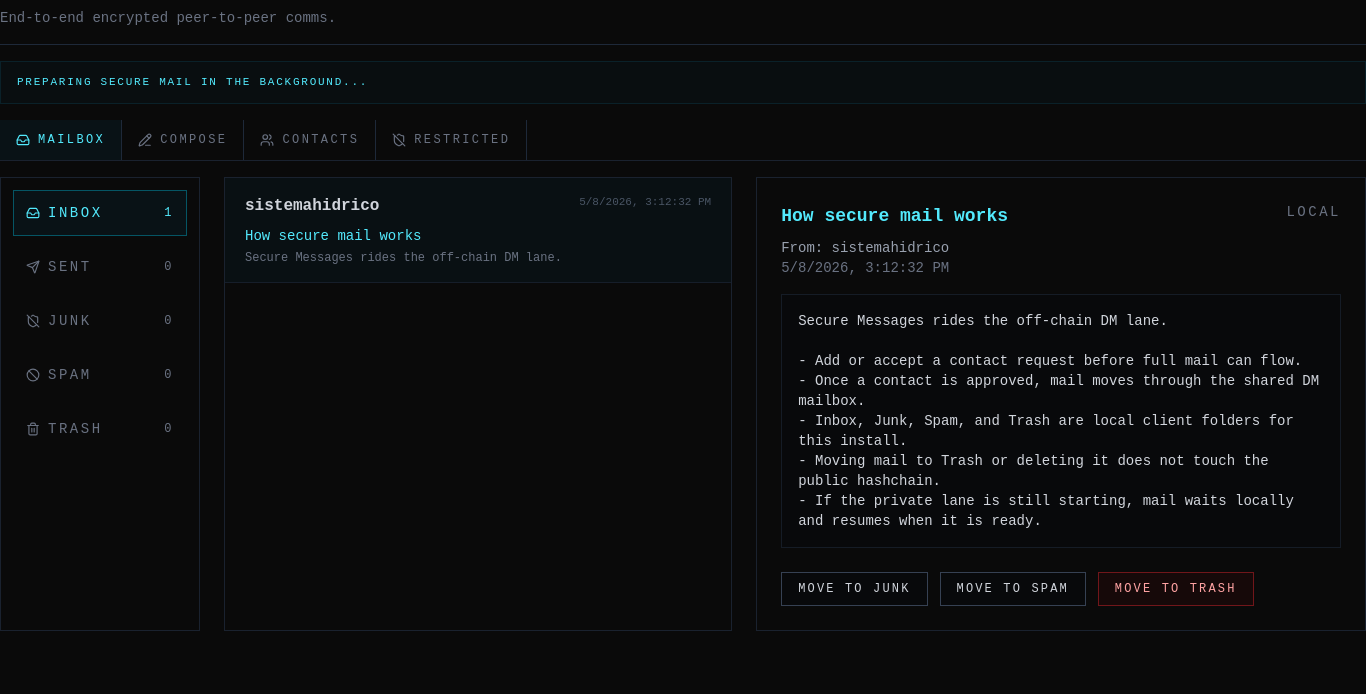
Scenario: MessagesView first-contact trust UX › does not require the TOFU override when the contact is invite-pinned already
Click the button "COMPOSE" at (183, 140), box [122,120,244,160]
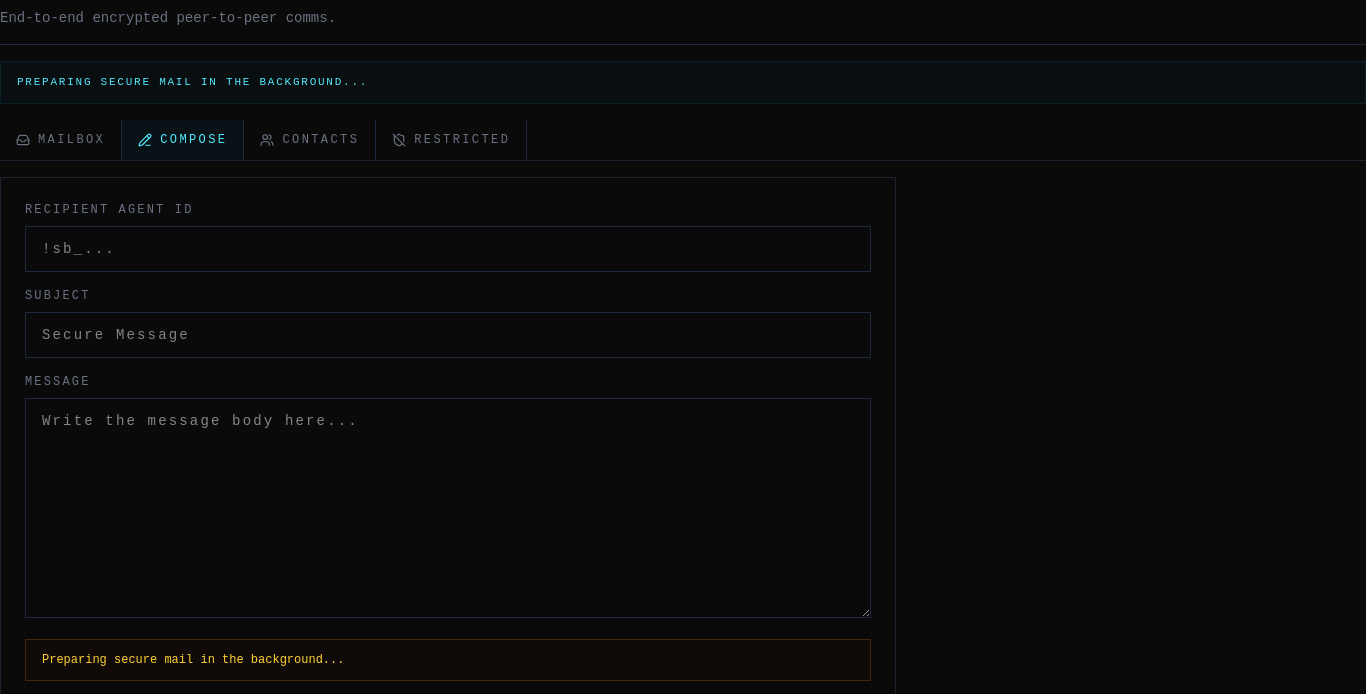
Type "!sb_invited" into the field labelled "Recipient agent ID" at (448, 248), box [25,226,871,272]
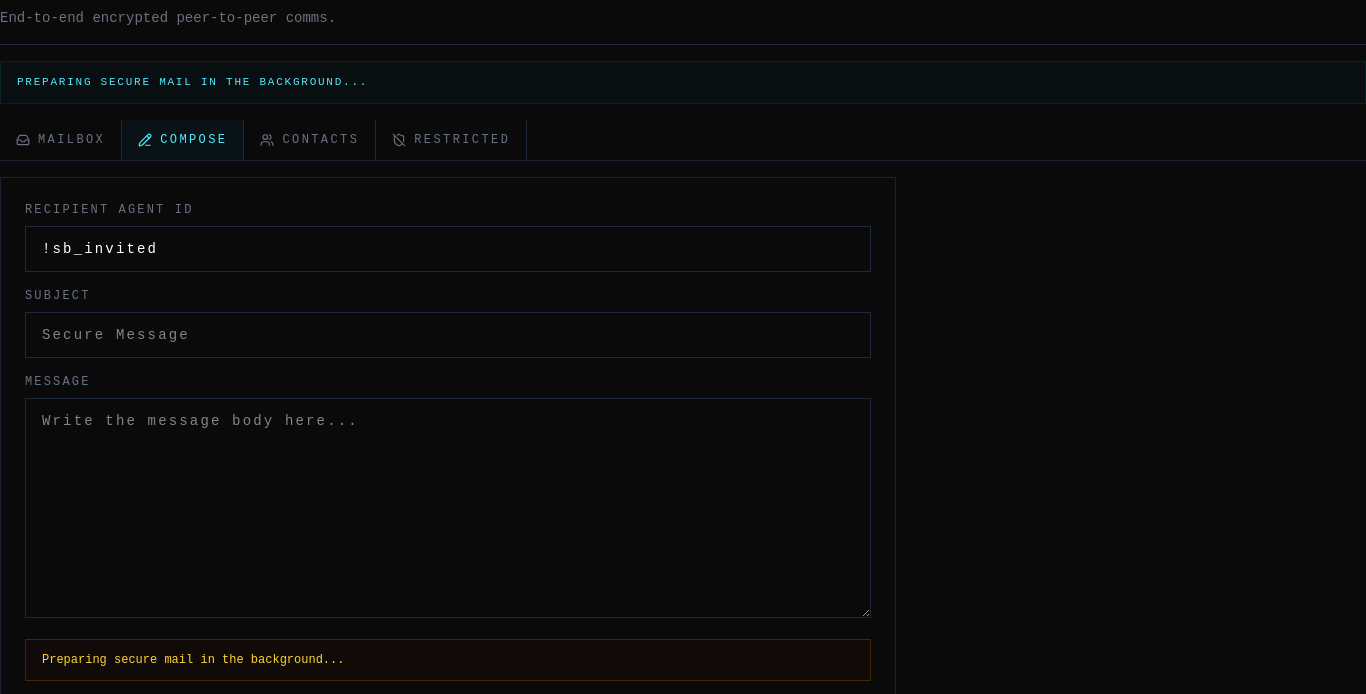
Type "hello to pinned peer" into the text box labelled "Message" at (448, 508), box [25,398,871,618]
(page scrolled)
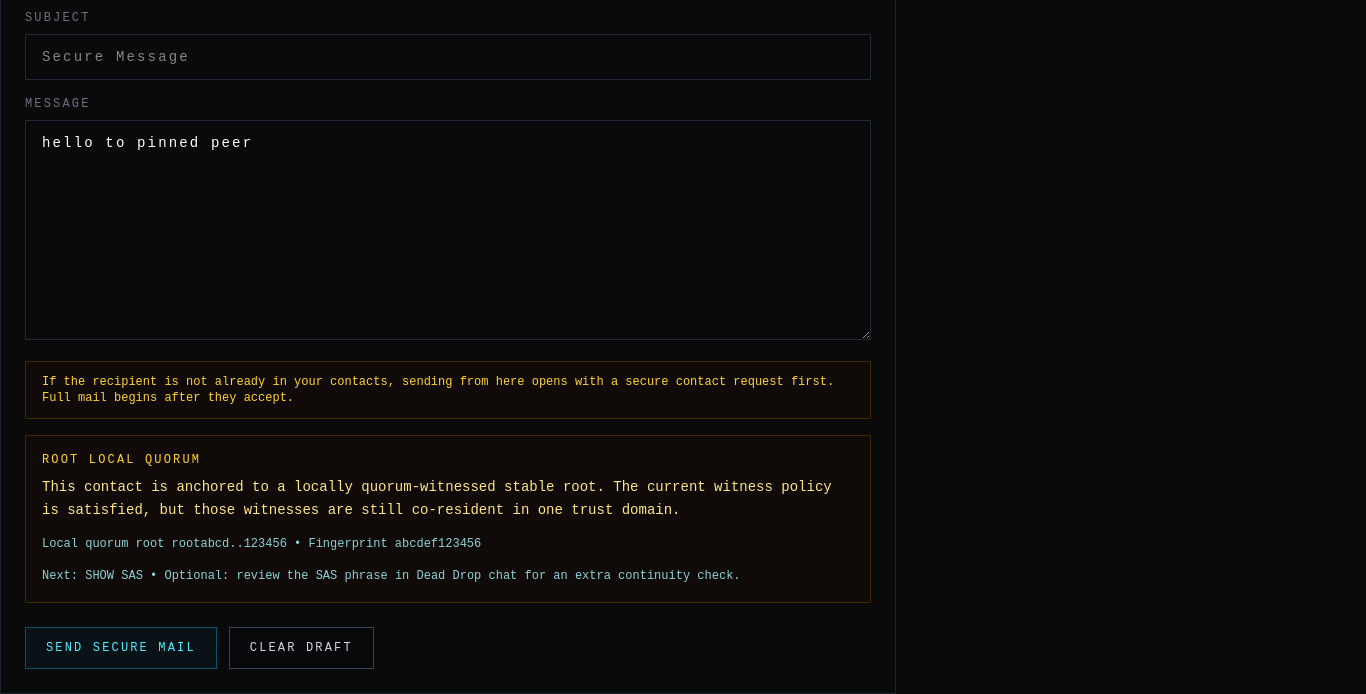
expect the text "ROOT LOCAL QUORUM" is shown: met, box [42,452,201,466]
expect the text "Local quorum root rootabcd..123456" is shown: met, box [42,537,481,551]
expect the button "Send Secure Mail" is enabled: met, box [25,628,217,670]
